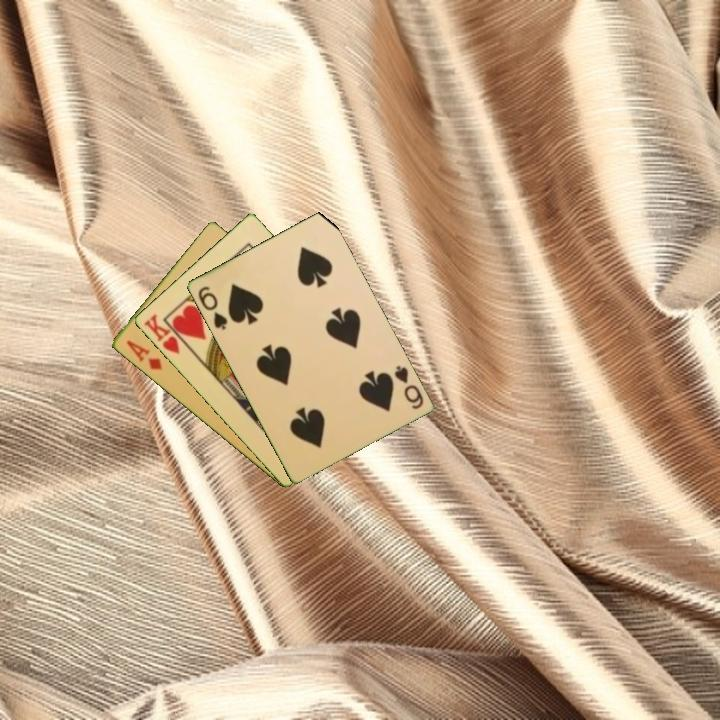6s: (194, 282, 230, 333), (390, 362, 426, 412)
Ad: (122, 336, 165, 373)
Kh: (140, 310, 192, 357)
